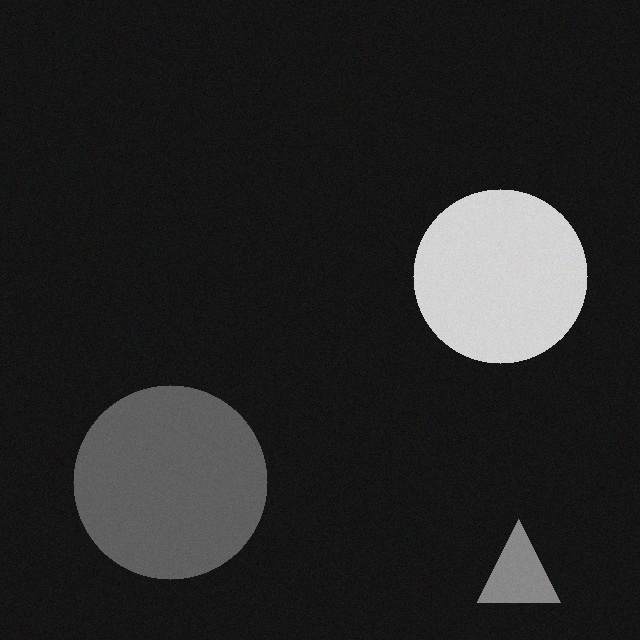circle: (58, 381, 252, 575), (398, 185, 572, 359)
triangle: (462, 515, 545, 598)
